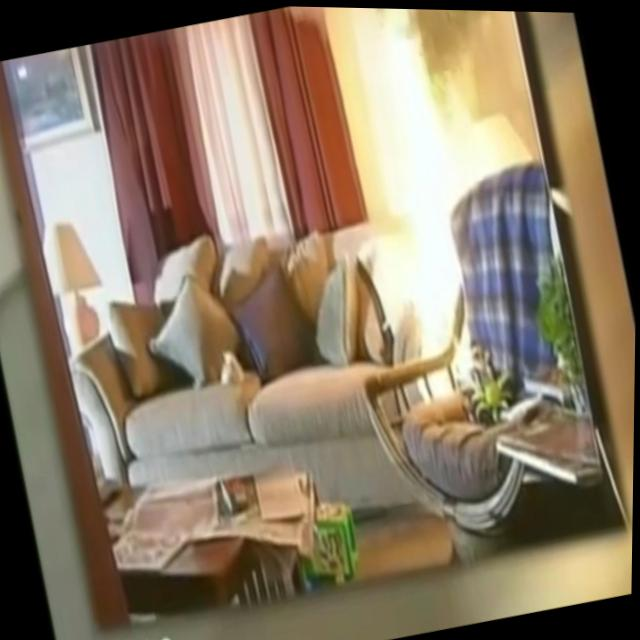fire: (355, 6, 513, 381)
